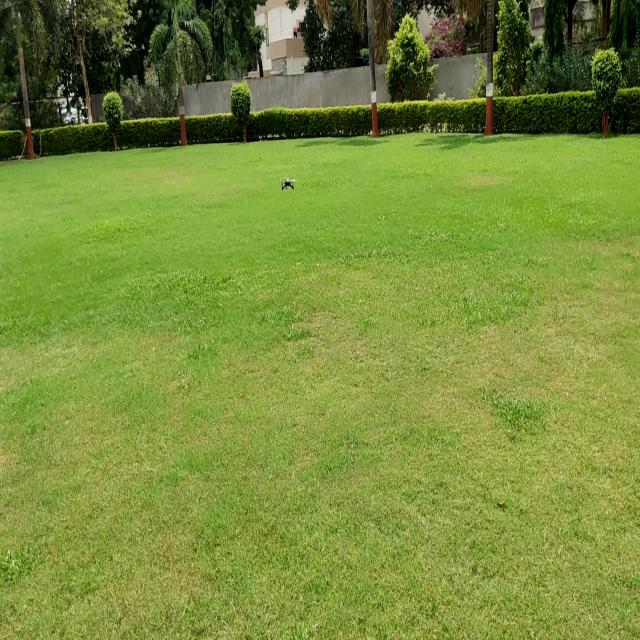drone: (275, 168, 303, 205)
